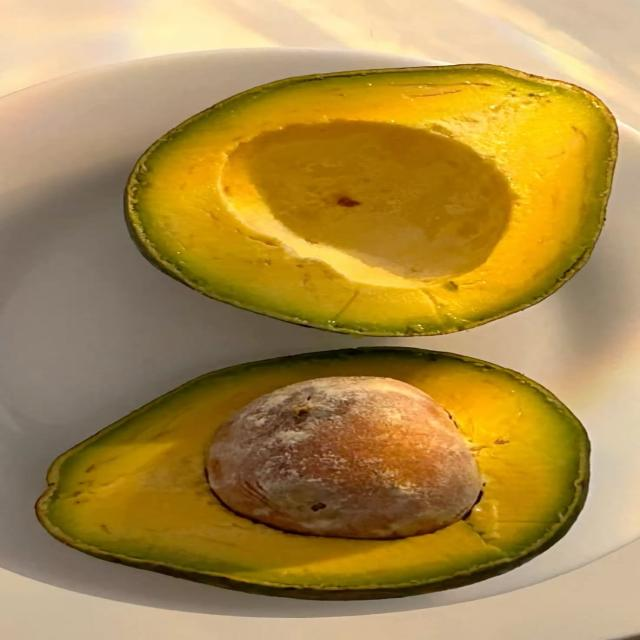avocado: (37, 348, 589, 599), (127, 65, 617, 335)
